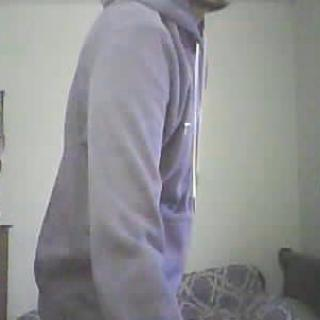Blue Hoodie: (36, 0, 205, 320)
